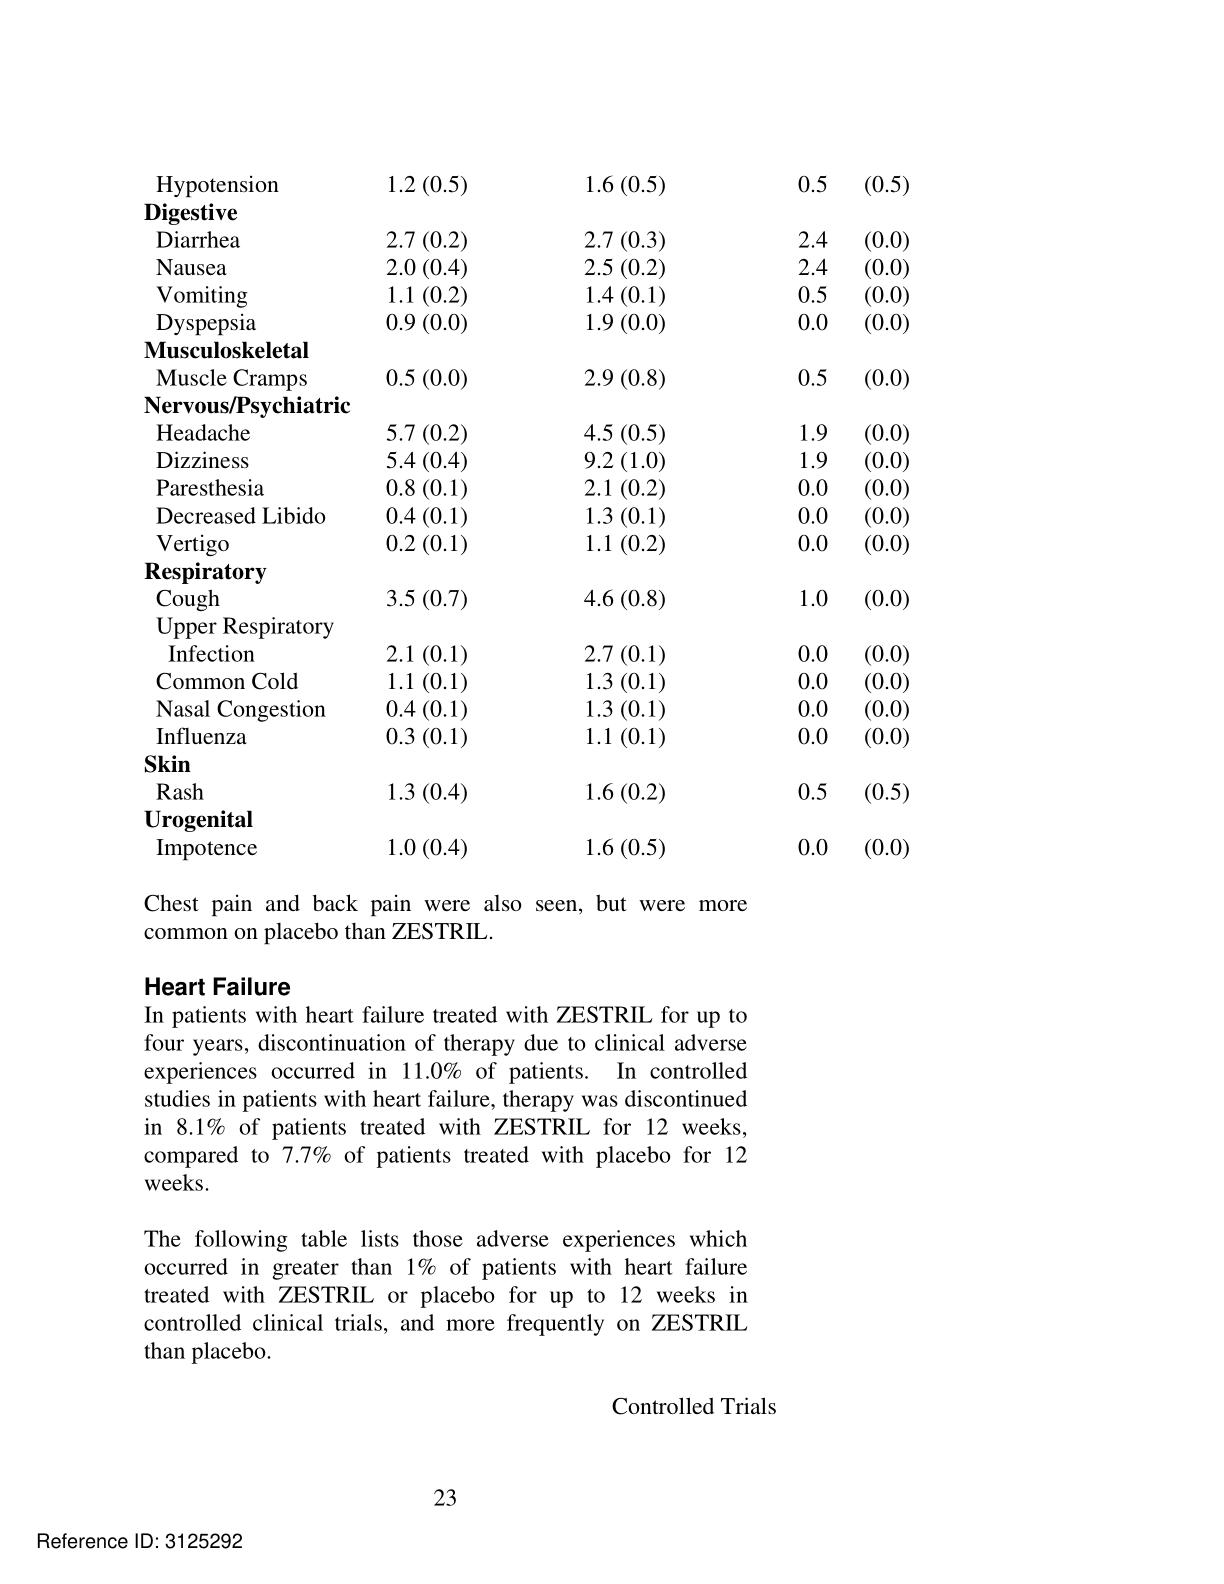nolines: (141, 172, 915, 861)
